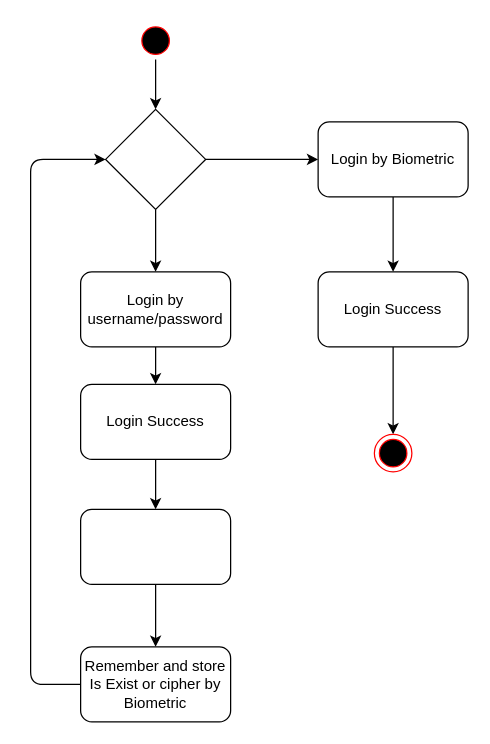
Some shapes in this 490 by 744 pixel diagram are drawn without their labels. Each missing label, with the box of its shape:
Is Exist or cipher: (104, 108, 206, 209)
Username and password cover to Is Exist or cipher: (79, 508, 231, 584)
